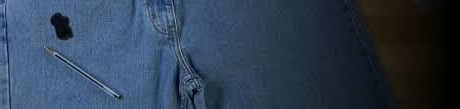ink: (51, 14, 73, 41)
